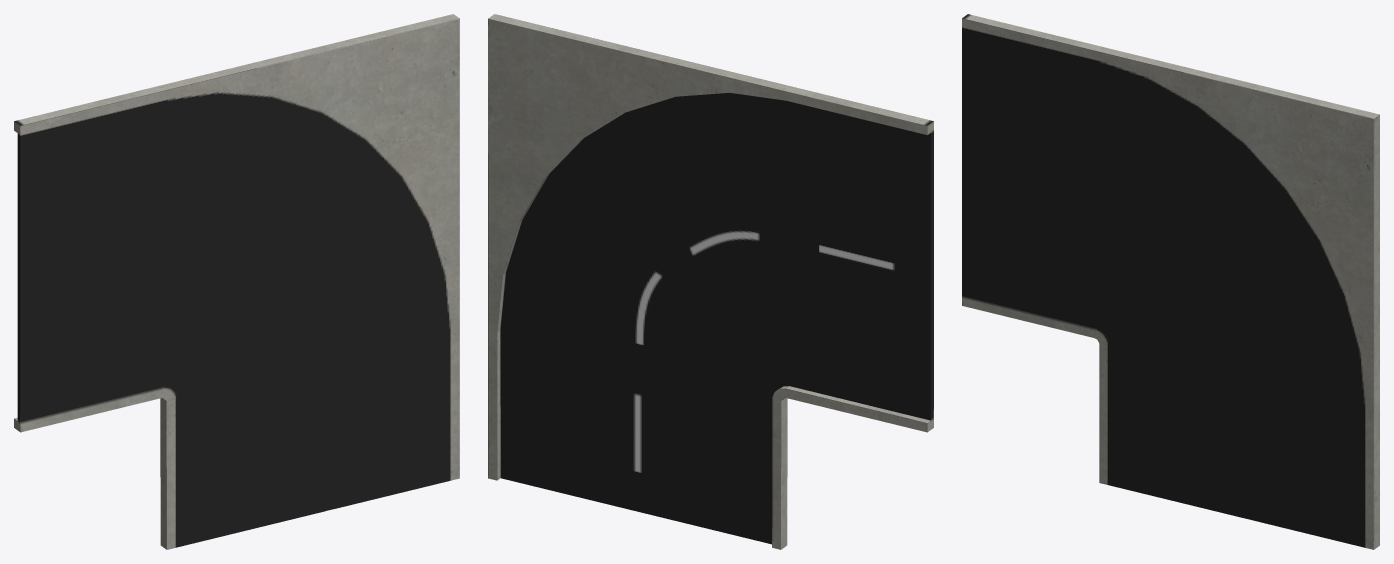
File: road-corner.obj
The picture shows the model from 3 angles, left to right: view 1: azimuth 30°, elevation 25°; view 2: azimuth 150°, elevation 25°; view 3: azimuth 330°, elevation 25°; orthographic projection. The views are drawn at different scales.
Parts seen in each view (by area): view 1: road-corner_Plane.121; view 2: road-corner_Plane.121; view 3: road-corner_Plane.121.
Part boxes in pixels (x1,y1,x2,y2): road-corner_Plane.121: [14, 14, 459, 549]; road-corner_Plane.121: [488, 14, 933, 549]; road-corner_Plane.121: [962, 14, 1379, 549].
Bounding box in the file's own units: 6 × 6 × 0.15.
